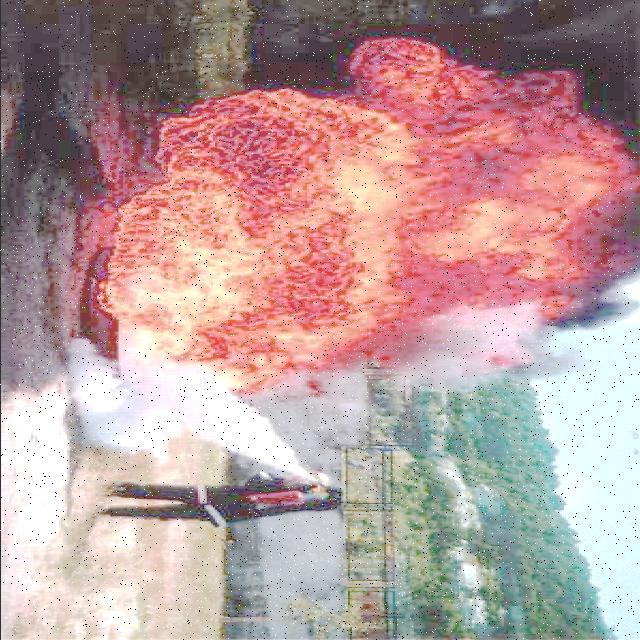api: (94, 91, 345, 329), (346, 112, 630, 287), (176, 318, 374, 365), (347, 273, 571, 311), (356, 39, 483, 102)
asap: (54, 374, 302, 455), (402, 315, 540, 395), (561, 292, 633, 362), (307, 378, 363, 460)
